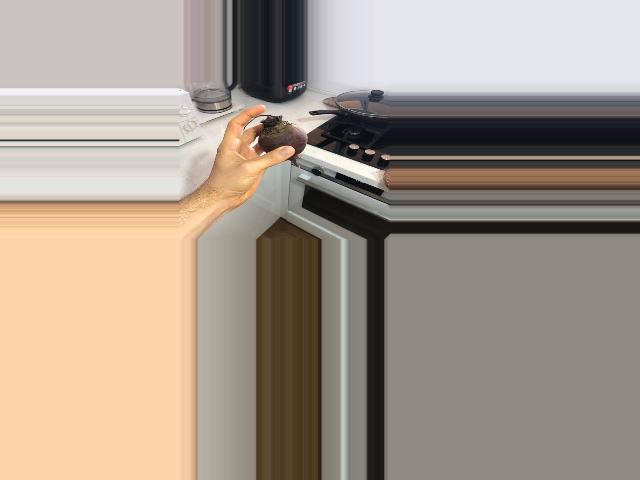beet: (244, 115, 307, 168)
